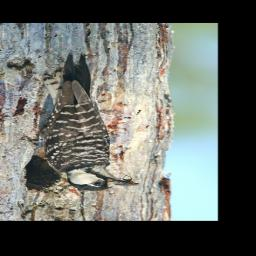Woodpecker: (17, 49, 141, 192)
